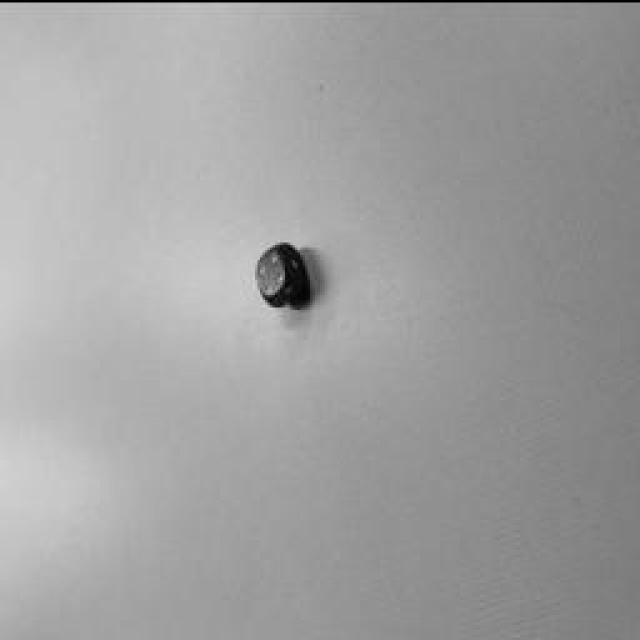dice_4: (256, 246, 286, 294)
